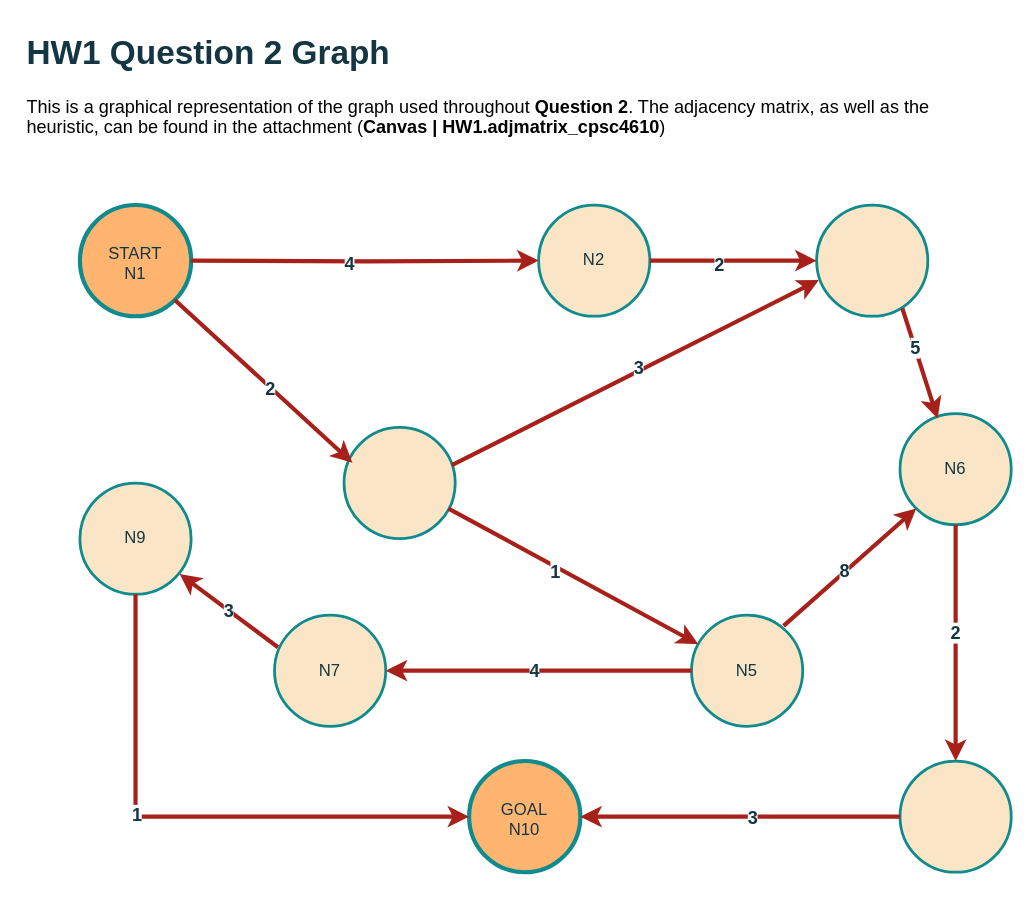
This 1036x898 diagram has some shape labels left out. The box of each missing label's shape, as (x1, y1, x2, y2) in pixels:
N3: (342, 425, 456, 539)
N4: (815, 203, 929, 317)
N8: (898, 759, 1012, 873)
